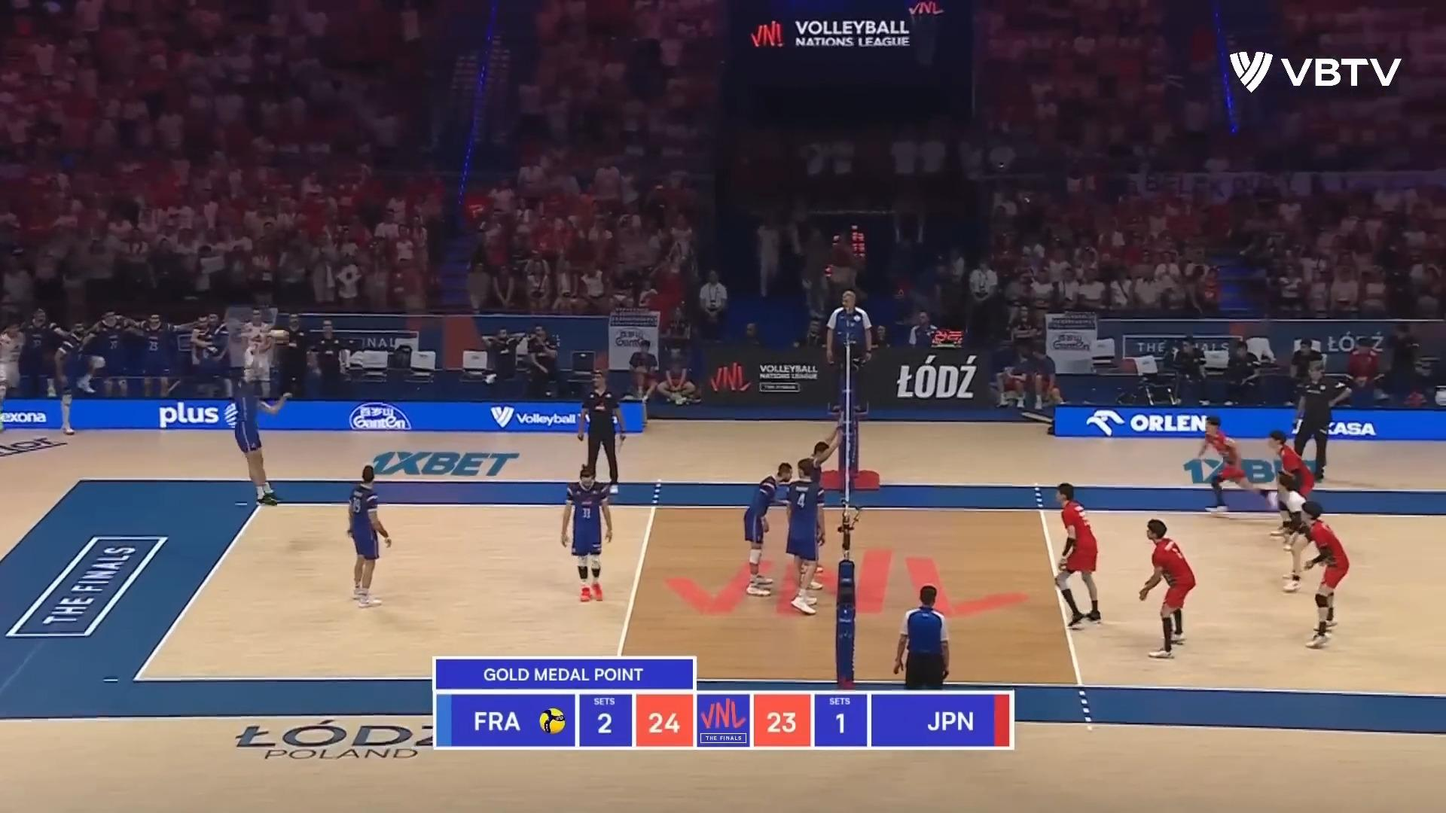ball: (268, 331, 291, 346)
